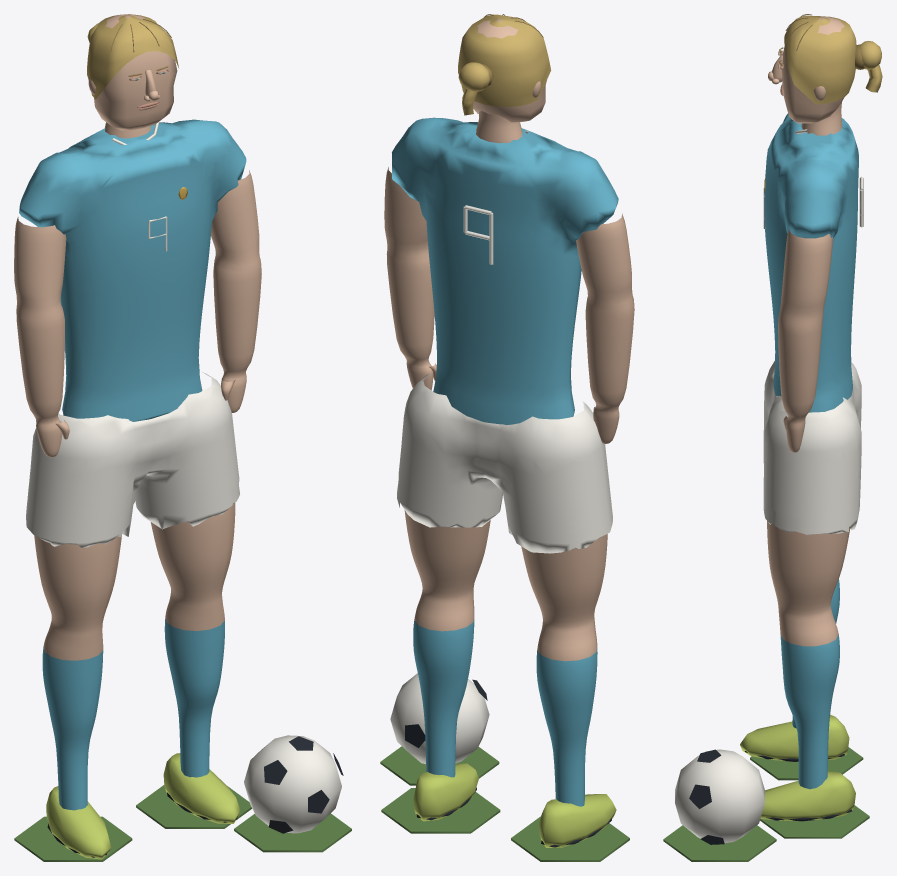
The model's file is haaland.glb.
The picture shows the model from 3 angles, left to right: view 1: azimuth 30°, elevation 25°; view 2: azimuth 150°, elevation 25°; view 3: azimuth 270°, elevation 25°; orthographic projection. The views are drawn at different scales.
Visible parts, largest first — view 1: jersey_cyan, shorts_white, arms_pale, legs_pale, legs_cyan, turf_grass, football_white, boots_lime, head_pale, hair_cap_blond, football_panels_ink; view 2: jersey_cyan, shorts_white, arms_pale, legs_pale, legs_cyan, turf_grass, hair_cap_blond, boots_lime, football_white, head_pale, neck_pale, hair_knot_blond (+1 smaller); view 3: jersey_cyan, shorts_white, arms_pale, legs_pale, legs_cyan, football_white, boots_lime, turf_grass, hair_cap_blond, head_pale, football_panels_ink, neck_pale (+1 smaller).
Boxes of the visible parts, x1,y1,x2,y2 form: jersey_cyan: (19, 119, 246, 421); shorts_white: (26, 372, 239, 547); arms_pale: (14, 170, 261, 457); legs_pale: (34, 502, 235, 660); legs_cyan: (42, 617, 224, 810); turf_grass: (14, 785, 351, 861); football_white: (244, 735, 341, 833); boots_lime: (46, 753, 240, 859); head_pale: (94, 14, 177, 130); hair_cap_blond: (87, 14, 178, 99); football_panels_ink: (264, 736, 343, 833); jersey_cyan: (392, 117, 618, 424); shorts_white: (397, 373, 612, 553); arms_pale: (384, 167, 634, 443); legs_pale: (404, 510, 607, 661); legs_cyan: (413, 618, 597, 806); turf_grass: (380, 746, 629, 861); hair_cap_blond: (458, 14, 551, 106); boots_lime: (413, 763, 616, 847); football_white: (390, 673, 489, 764); head_pale: (473, 19, 546, 122); neck_pale: (476, 111, 522, 143); hair_knot_blond: (458, 62, 490, 91); jersey_cyan: (764, 113, 858, 412); shorts_white: (763, 361, 861, 534); arms_pale: (778, 230, 832, 452); legs_pale: (767, 521, 850, 646); legs_cyan: (780, 579, 839, 789); football_white: (675, 749, 764, 843); boots_lime: (740, 714, 855, 820); turf_grass: (663, 747, 869, 861); hair_cap_blond: (784, 15, 856, 104); head_pale: (782, 16, 844, 123); football_panels_ink: (689, 749, 724, 844); neck_pale: (801, 102, 842, 135).
Bounding box in the file's own units: 0.7014 × 1.95 × 0.5032.
